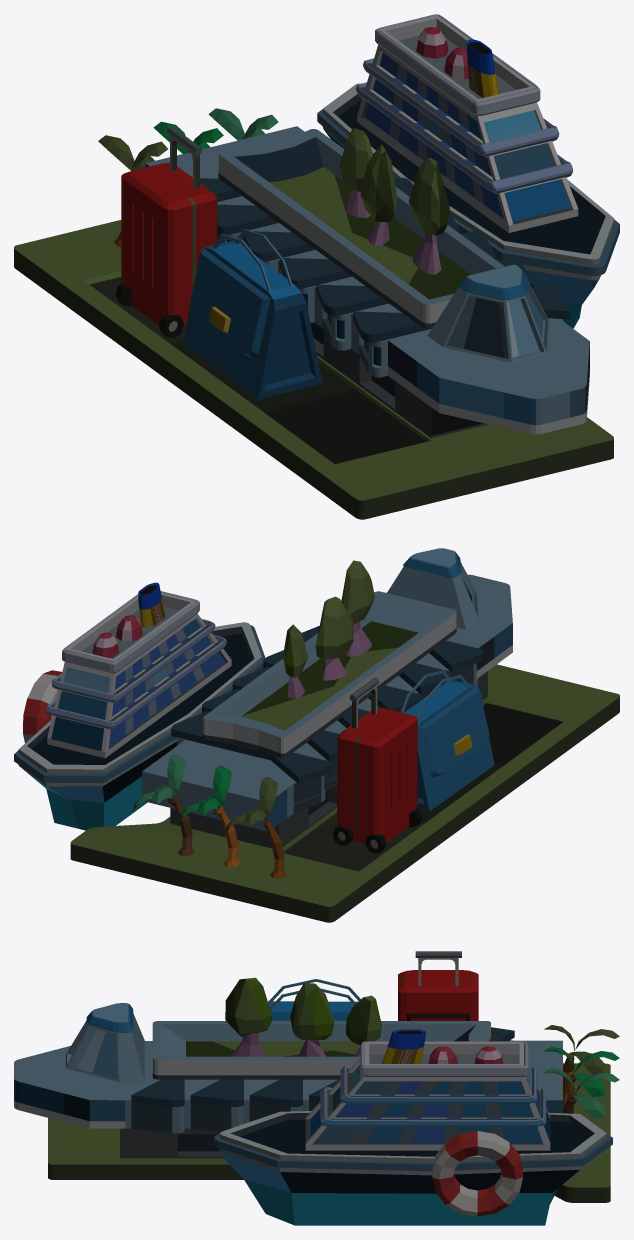
3 views of the same model, one above another, from view 1: azimuth 30°, elevation 25°; view 2: azimuth 150°, elevation 25°; view 3: azimuth 270°, elevation 25° (orthographic). The views are drawn at different scales.
Visible parts, largest first — view 1: Plane.010; view 2: Plane.010; view 3: Plane.010.
Boxes of the visible parts, x1,y1,x2,y2 form: Plane.010: [14, 14, 619, 519]; Plane.010: [14, 548, 619, 922]; Plane.010: [14, 951, 619, 1225].
Bounding box in the file's own units: 3.04 × 1.52 × 4.58.
1 material, 1 textured.
